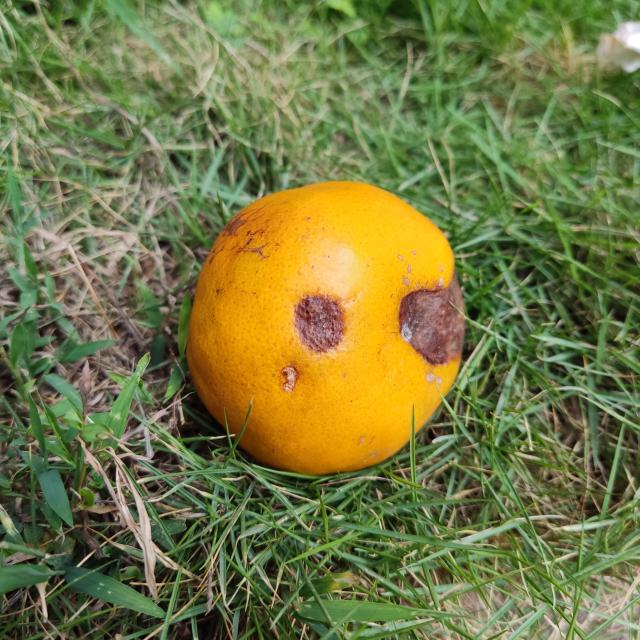orange: (182, 177, 464, 479)
